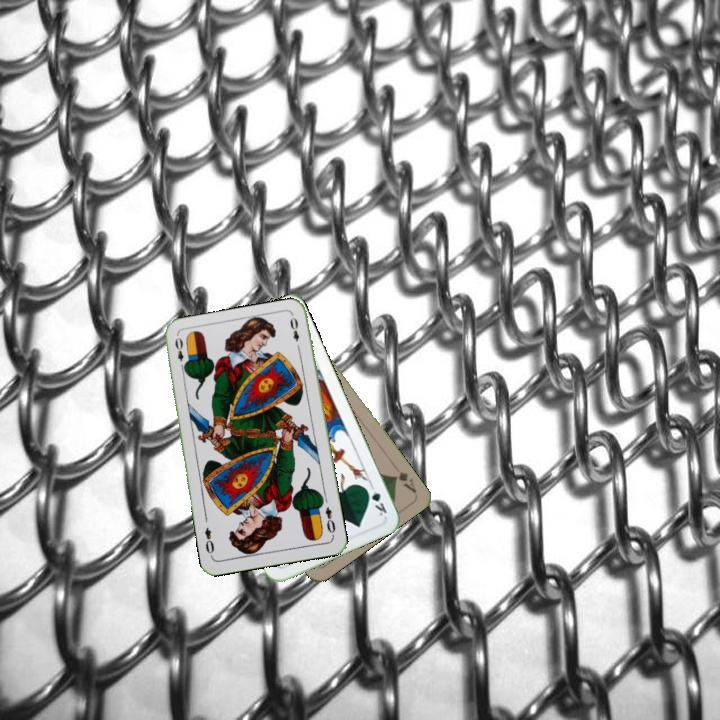EO: (171, 333, 189, 373), (321, 503, 338, 539)
GA: (389, 461, 419, 496)
GK: (361, 480, 389, 519)
